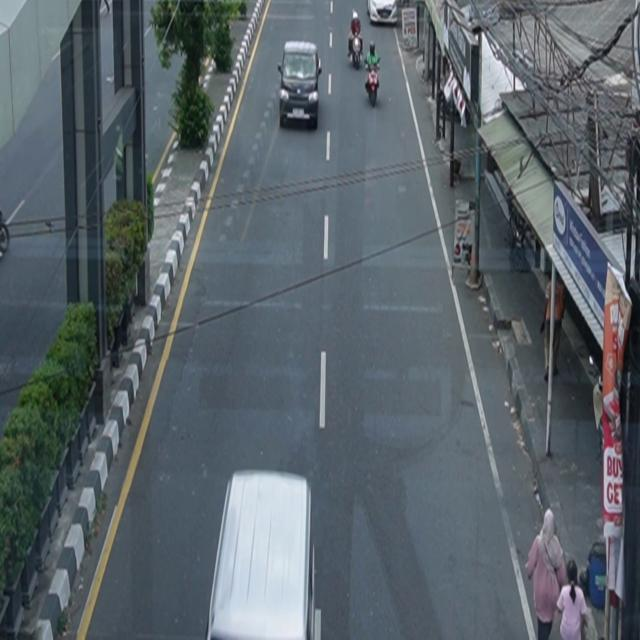car: (278, 41, 322, 130), (367, 1, 398, 26)
